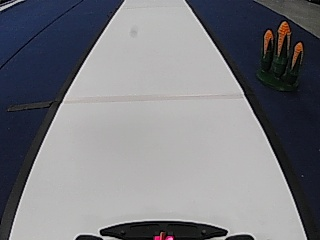corn: (255, 18, 303, 90)
